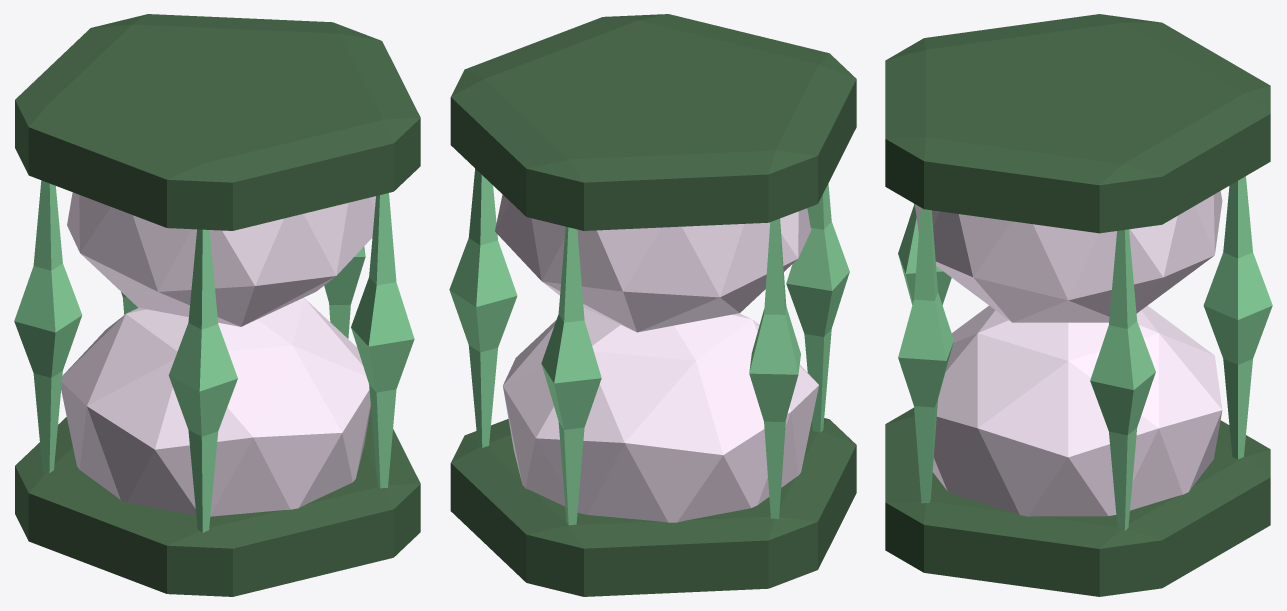
Rendered from hourglass.fbx.
The picture shows the model from 3 angles, left to right: view 1: azimuth 30°, elevation 25°; view 2: azimuth 150°, elevation 25°; view 3: azimuth 270°, elevation 25°; orthographic projection.
Visible parts, largest first — view 1: top, Bot-Dome, bot, Bot-Dome.001, pillar4, pillar2, pillar3, pillar5; view 2: top, Bot-Dome, bot, Bot-Dome.001, pillar5, pillar1, pillar2, pillar4; view 3: top, Bot-Dome, bot, Bot-Dome.001, pillar1, pillar5, pillar3, pillar4.
Boxes of the visible parts, <box> form: top: <box>15,14,420,230</box>; Bot-Dome: <box>61,297,370,516</box>; bot: <box>15,407,420,596</box>; Bot-Dome.001: <box>67,192,375,326</box>; pillar4: <box>168,229,237,532</box>; pillar2: <box>14,180,82,473</box>; pillar3: <box>351,193,414,488</box>; pillar5: <box>324,246,365,338</box>; top: <box>450,14,856,230</box>; Bot-Dome: <box>503,308,818,522</box>; bot: <box>450,418,856,596</box>; Bot-Dome.001: <box>495,194,811,332</box>; pillar5: <box>449,168,517,447</box>; pillar1: <box>541,226,601,525</box>; pillar2: <box>749,218,800,519</box>; pillar4: <box>786,184,849,432</box>; top: <box>885,14,1270,233</box>; Bot-Dome: <box>932,305,1222,516</box>; bot: <box>885,407,1270,596</box>; Bot-Dome.001: <box>914,191,1222,322</box>; pillar1: <box>1203,176,1272,459</box>; pillar5: <box>1090,229,1155,531</box>; pillar3: <box>898,207,953,503</box>; pillar4: <box>898,203,951,304</box>.
Size of the model in its own units: 179 by 171 by 207.
